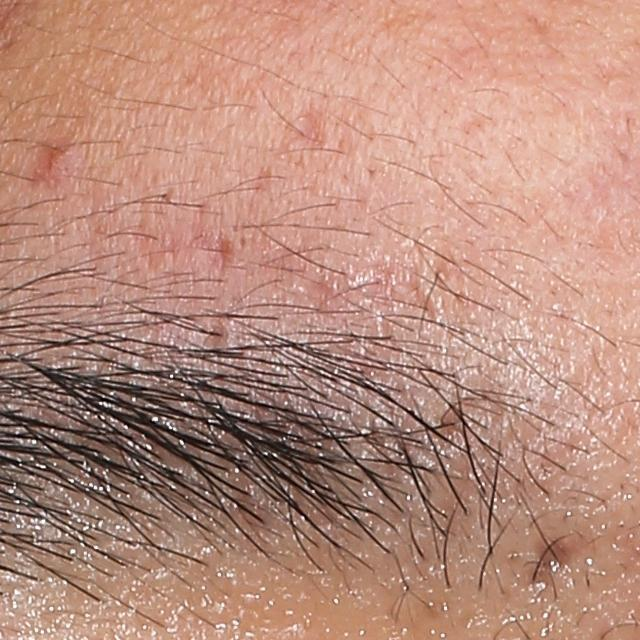atrophic_scar: (104, 204, 302, 277), (297, 265, 453, 349), (501, 529, 593, 610), (429, 383, 519, 460), (276, 99, 376, 161)
papule: (35, 148, 74, 183)
